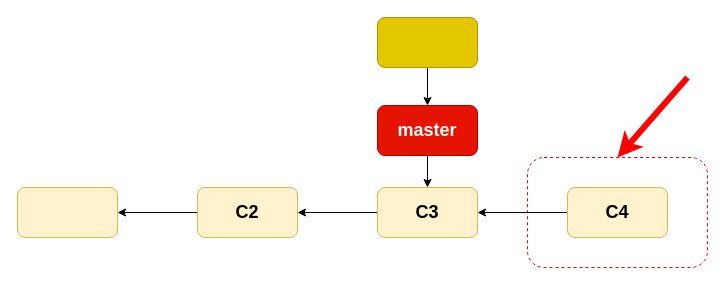
This 725x285 diagram has some shape labels left out. Each missing label, with the box of its shape:
C1: (16, 186, 118, 238)
HEAD: (376, 16, 478, 68)
